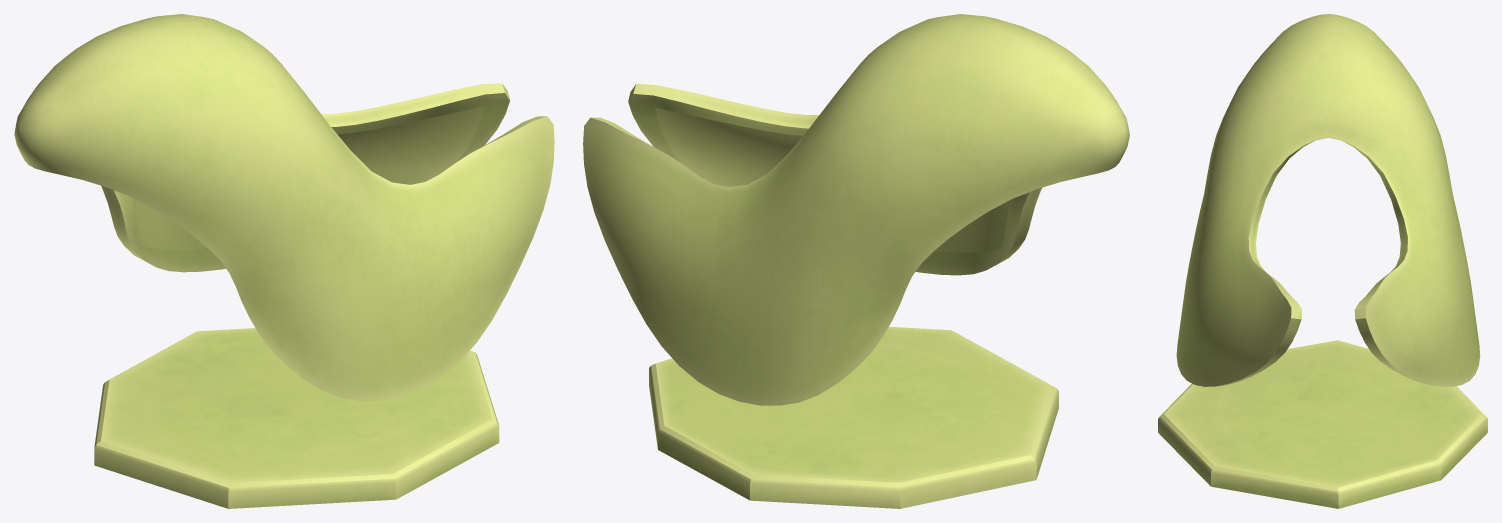
Rendered from GOT7_02.glb.
The picture shows the model from 3 angles, left to right: view 1: azimuth 30°, elevation 25°; view 2: azimuth 150°, elevation 25°; view 3: azimuth 270°, elevation 25°; orthographic projection. The views are drawn at different scales.
Visible parts, largest first — view 1: GOT7_02; view 2: GOT7_02; view 3: GOT7_02.
Boxes of the visible parts, x1=… form: GOT7_02: x1=14, y1=14, x2=554, y2=508; GOT7_02: x1=583, y1=14, x2=1129, y2=508; GOT7_02: x1=1158, y1=14, x2=1487, y2=508.
Size of the model in its own units: 0.2459 by 0.1969 by 0.1684.
1 material, 1 textured.
